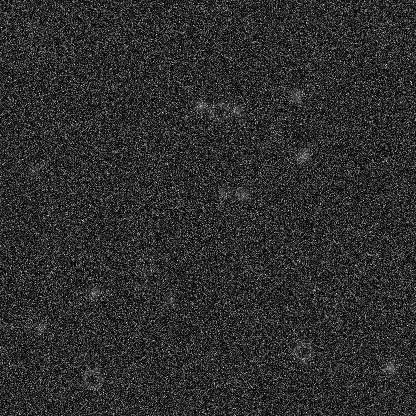Ring: (206, 99, 230, 123), (133, 253, 157, 277), (80, 366, 104, 390), (291, 338, 315, 362)
Spot: (24, 17, 40, 33), (26, 162, 42, 178), (295, 147, 311, 163), (192, 97, 208, 113), (235, 186, 251, 202), (32, 319, 48, 335), (267, 127, 283, 143), (161, 291, 177, 307), (229, 102, 245, 118), (131, 278, 147, 294), (382, 359, 398, 375), (20, 315, 36, 331), (216, 185, 232, 201), (288, 87, 304, 103), (86, 284, 102, 300), (207, 47, 223, 63)
